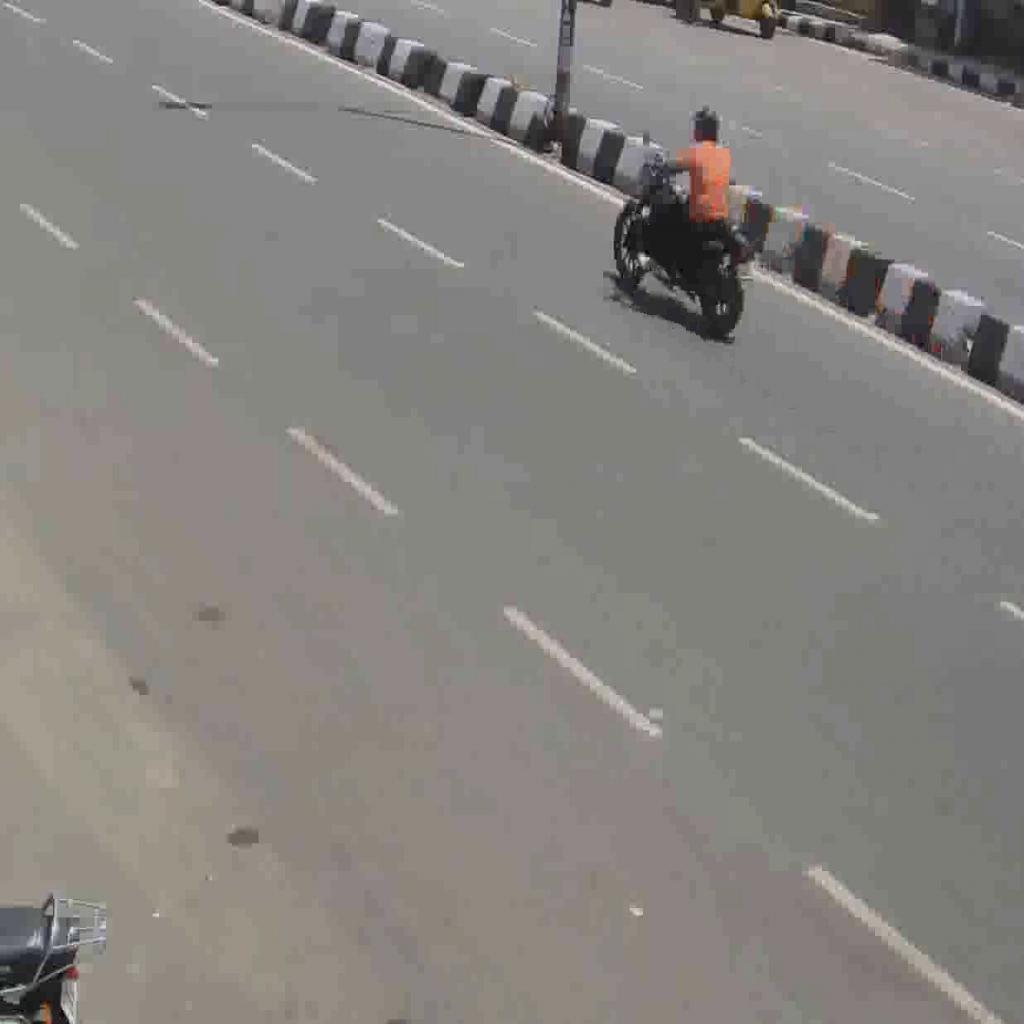helmet: (611, 150, 755, 339)
